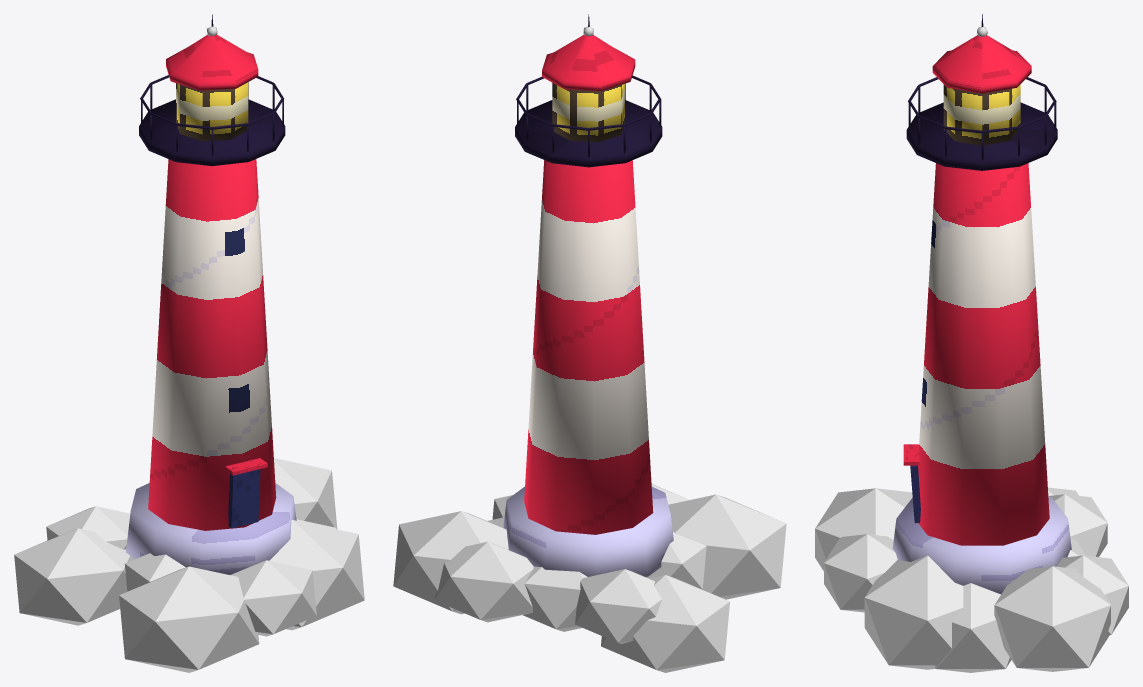
File: Lighthouse.fbx
3 views of the same model, side by side, from view 1: azimuth 30°, elevation 25°; view 2: azimuth 150°, elevation 25°; view 3: azimuth 270°, elevation 25° (orthographic). The views are drawn at different scales.
Visible parts, largest first — view 1: Lighthouse tower, Lighthouse rock 7, Lighthouse rock 5, Lighthouse plinth, Lighthouse rock 10, Lighthouse gallery, Lighthouse rock 8, Lighthouse lamp room, Lighthouse roof, Lighthouse rock 1, Lighthouse rock 4, Lighthouse door (+3 smaller); view 2: Lighthouse tower, Lighthouse rock 7, Lighthouse plinth, Lighthouse rock 5, Lighthouse rock 2, Lighthouse rock 1, Lighthouse gallery, Lighthouse rock 4, Lighthouse lamp room, Lighthouse roof, Lighthouse rock 3, Lighthouse rock 6 (+2 smaller); view 3: Lighthouse tower, Lighthouse rock 1, Lighthouse rock 10, Lighthouse plinth, Lighthouse gallery, Lighthouse rock 7, Lighthouse rock 0, Lighthouse rock 8, Lighthouse lamp room, Lighthouse roof, Lighthouse rock 2, Lighthouse rock 4 (+2 smaller).
Part boxes in pixels (x1,y1,x2,y2): Lighthouse tower: (148, 159, 276, 530); Lighthouse rock 7: (119, 566, 259, 672); Lighthouse rock 5: (14, 528, 134, 625); Lighthouse plinth: (126, 483, 296, 574); Lighthouse rock 10: (269, 520, 364, 630); Lighthouse gallery: (139, 99, 285, 166); Lighthouse rock 8: (230, 560, 316, 636); Lighthouse lamp room: (176, 82, 248, 141); Lighthouse roof: (168, 34, 255, 82); Lighthouse rock 1: (274, 458, 337, 528); Lighthouse rock 4: (46, 506, 130, 549); Lighthouse door: (228, 469, 260, 528); Lighthouse tower: (524, 160, 653, 534); Lighthouse rock 7: (668, 494, 786, 599); Lighthouse plinth: (503, 486, 673, 576); Lighthouse rock 5: (601, 575, 729, 672); Lighthouse rock 2: (434, 541, 533, 622); Lighthouse rock 1: (393, 511, 508, 614); Lighthouse gallery: (515, 100, 662, 167); Lighthouse rock 4: (575, 569, 661, 643); Lighthouse lamp room: (552, 83, 624, 142); Lighthouse roof: (544, 35, 632, 83); Lighthouse rock 3: (523, 566, 587, 631); Lighthouse rock 6: (646, 532, 706, 589); Lighthouse tower: (918, 163, 1049, 545); Lighthouse rock 1: (994, 566, 1110, 671); Lighthouse rock 10: (864, 555, 963, 669); Lighthouse plinth: (892, 496, 1071, 594); Lighthouse gallery: (906, 102, 1057, 170); Lighthouse rock 7: (815, 488, 912, 570); Lighthouse rock 0: (934, 583, 1011, 672); Lighthouse rock 8: (824, 534, 897, 612); Lighthouse lamp room: (943, 84, 1020, 145); Lighthouse roof: (936, 35, 1028, 85); Lighthouse rock 2: (1056, 555, 1128, 635); Lighthouse rock 4: (1049, 494, 1107, 556).
Size of the model in its own units: 7.27 by 13.35 by 6.03.
Materials: 10 (7 with a texture image).
